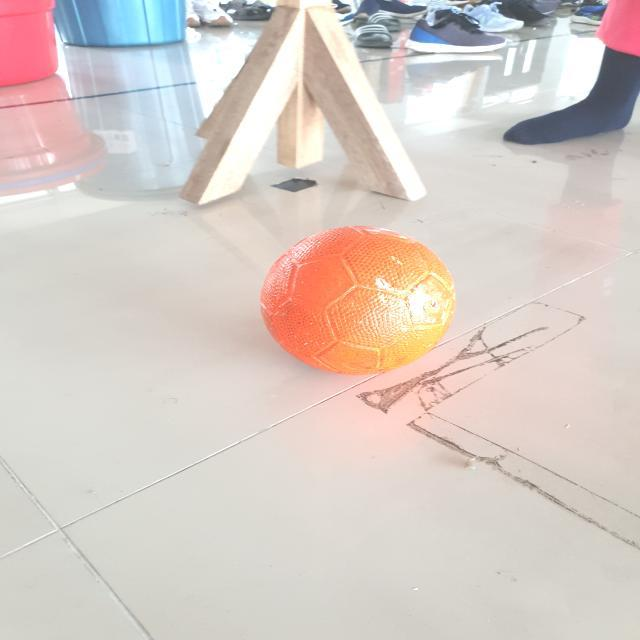bola: (251, 220, 473, 384)
